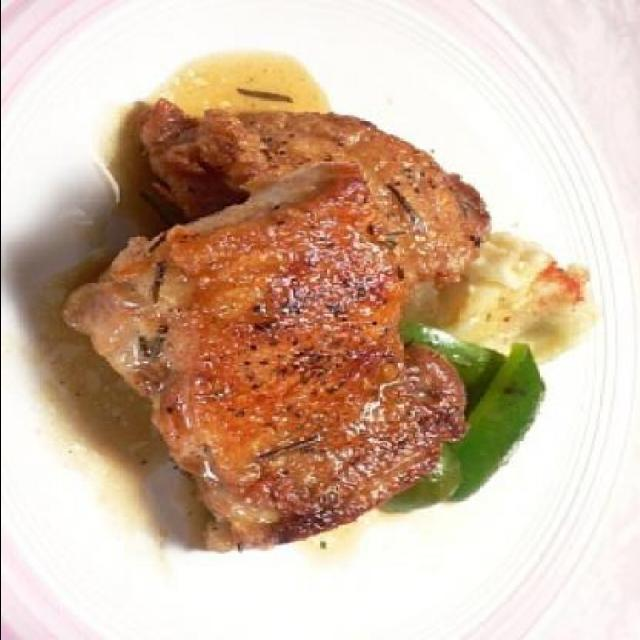Chicken roast: (98, 124, 494, 560)
